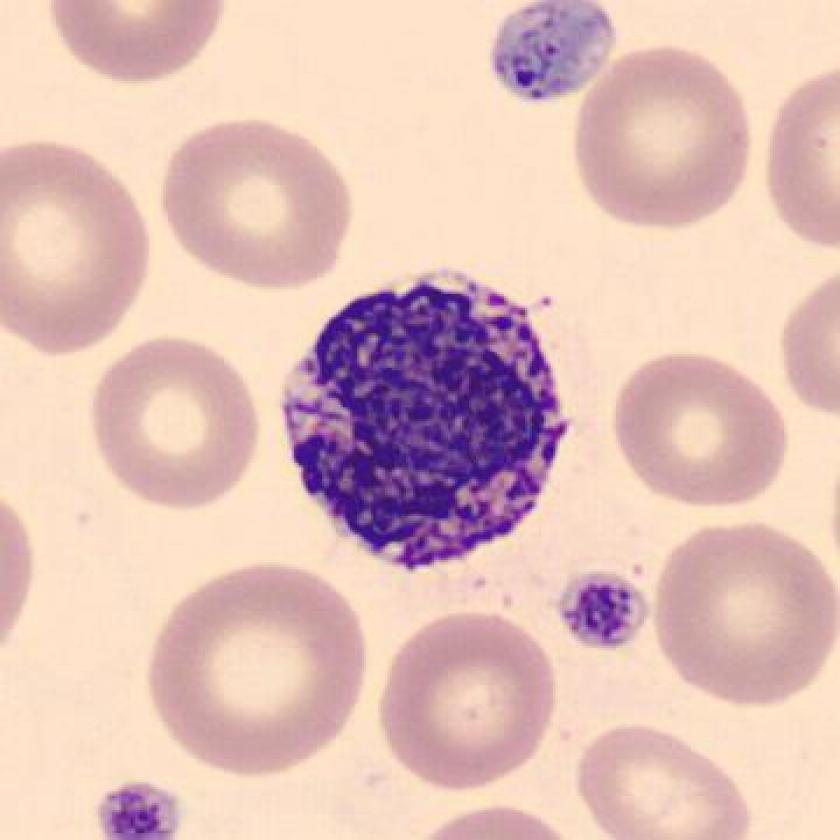basophil: (274, 246, 591, 584)
